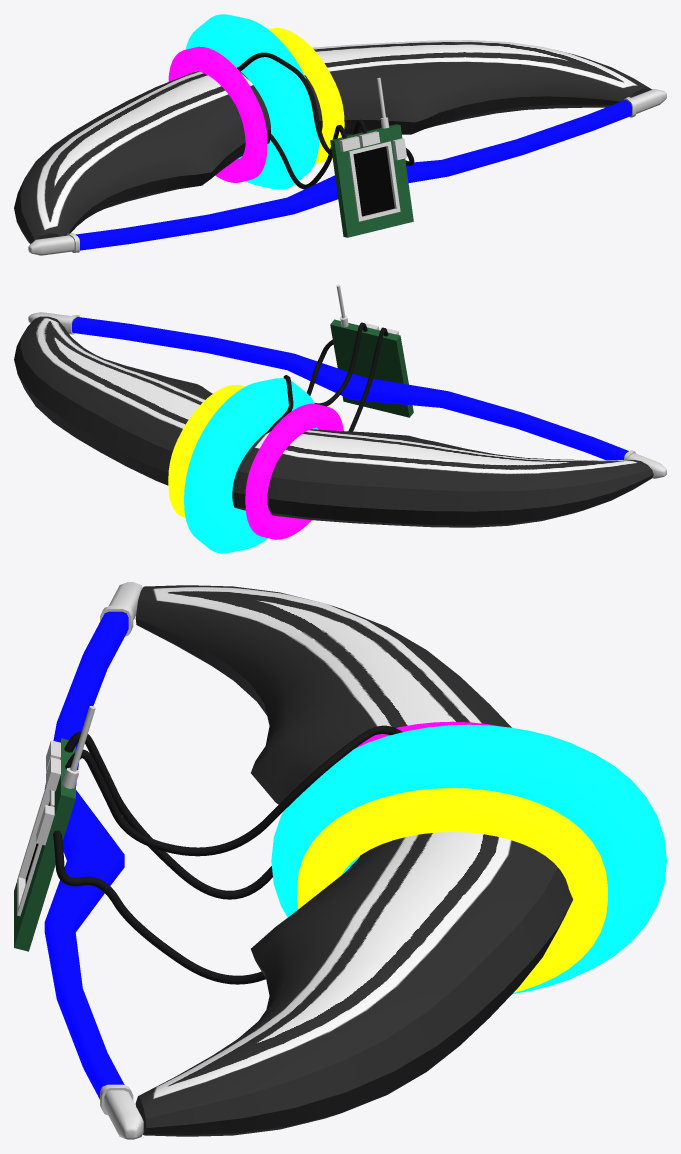
Rendered from BOOMerang.fbx.
3 renders of one model, top to bottom at view 1: azimuth 30°, elevation 25°; view 2: azimuth 150°, elevation 25°; view 3: azimuth 270°, elevation 25°, orthographic. The views are drawn at different scales.
Parts seen in each view (by area): view 1: Base, Handle, Ring, Circut, Ring.001, Ring.002, Wire.001, Wire.002; view 2: Base, Handle, Ring, Ring.001, Circut, Ring.002, Wire.001, Wire.002; view 3: Base, Ring, Ring.002, Handle, Circut, Wire.001, Wire, Wire.002.
Part boxes in pixels (<box>): Base: <box>14,40,651,243</box>; Handle: <box>28,89,666,255</box>; Ring: <box>185,14,319,189</box>; Circut: <box>330,124,413,237</box>; Ring.001: <box>168,46,267,182</box>; Ring.002: <box>268,28,344,163</box>; Wire.001: <box>237,52,366,153</box>; Wire.002: <box>266,125,346,189</box>; Base: <box>14,316,653,527</box>; Handle: <box>28,312,666,478</box>; Ring: <box>184,378,318,553</box>; Ring.001: <box>245,403,343,539</box>; Circut: <box>330,319,413,417</box>; Ring.002: <box>168,385,244,517</box>; Wire.001: <box>265,322,367,433</box>; Wire.002: <box>348,327,388,431</box>; Base: <box>135,585,573,1136</box>; Ring: <box>271,724,666,993</box>; Ring.002: <box>297,788,607,992</box>; Handle: <box>44,582,143,1139</box>; Circut: <box>14,738,75,951</box>; Wire.001: <box>65,725,402,856</box>; Wire: <box>53,830,265,984</box>; Wire.002: <box>64,731,272,899</box>.
Size of the model in its own units: 293 by 76.64 by 148.
